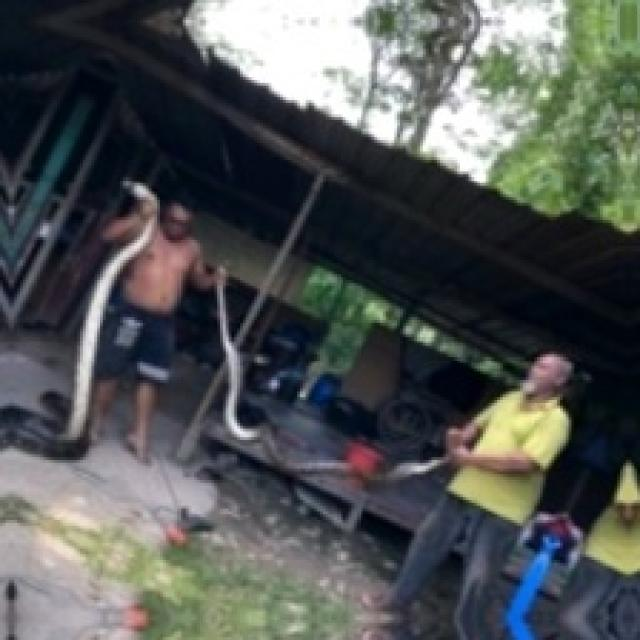reticulated python: (221, 308, 448, 481), (0, 214, 158, 459)
